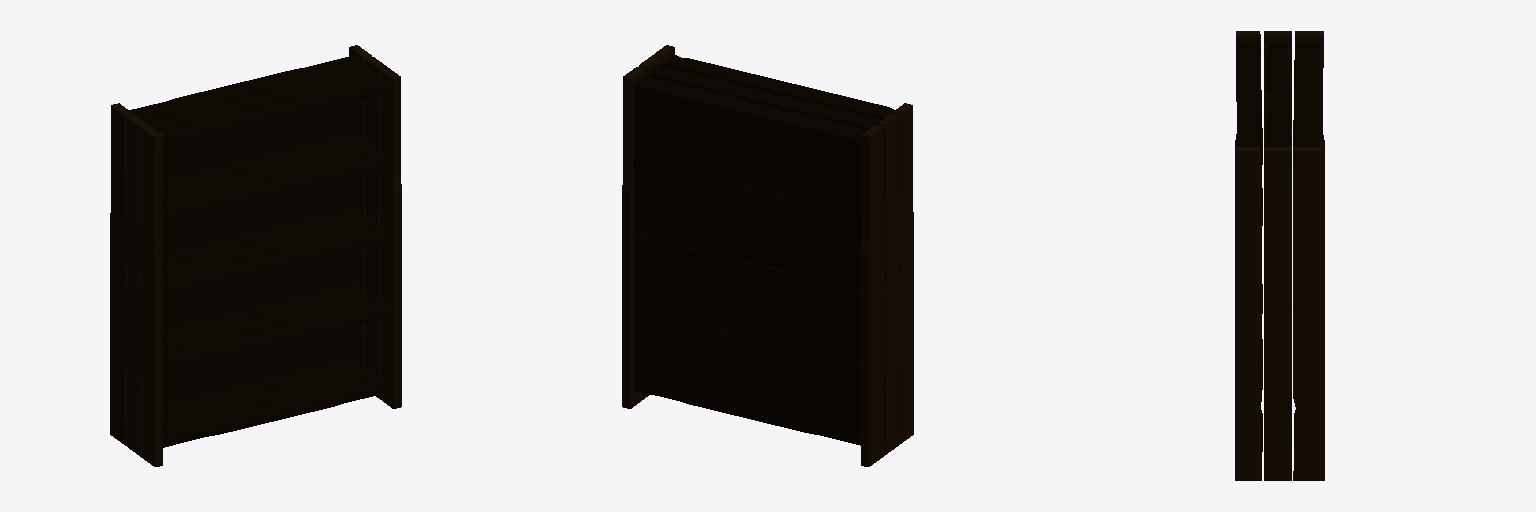
File: Bookcase_Empty.obj
3 views of the same model, side by side, from view 1: azimuth 30°, elevation 25°; view 2: azimuth 150°, elevation 25°; view 3: azimuth 270°, elevation 25° (orthographic).
Parts seen in each view (by area): view 1: Bookcase_Empty_Cylinder.050; view 2: Bookcase_Empty_Cylinder.050; view 3: Bookcase_Empty_Cylinder.050.
Boxes of the visible parts, <box> form: Bookcase_Empty_Cylinder.050: <box>110,45,401,466</box>; Bookcase_Empty_Cylinder.050: <box>622,45,913,466</box>; Bookcase_Empty_Cylinder.050: <box>1235,31,1324,480</box>.
Bounding box in the file's own units: 2.08 × 2.65 × 0.6582.